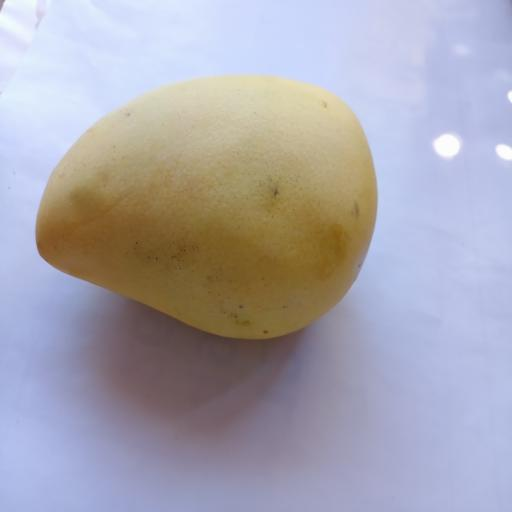mango-ripe: (13, 34, 407, 357)
